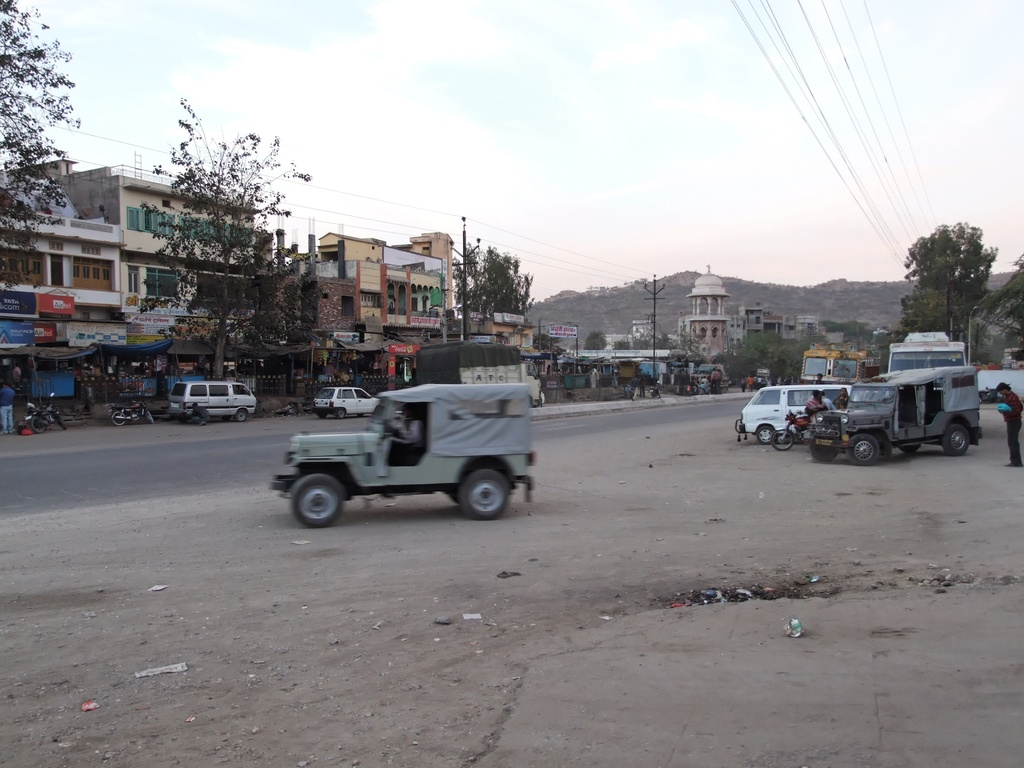Car: (163, 375, 259, 418), (311, 386, 382, 419), (535, 393, 544, 409)
